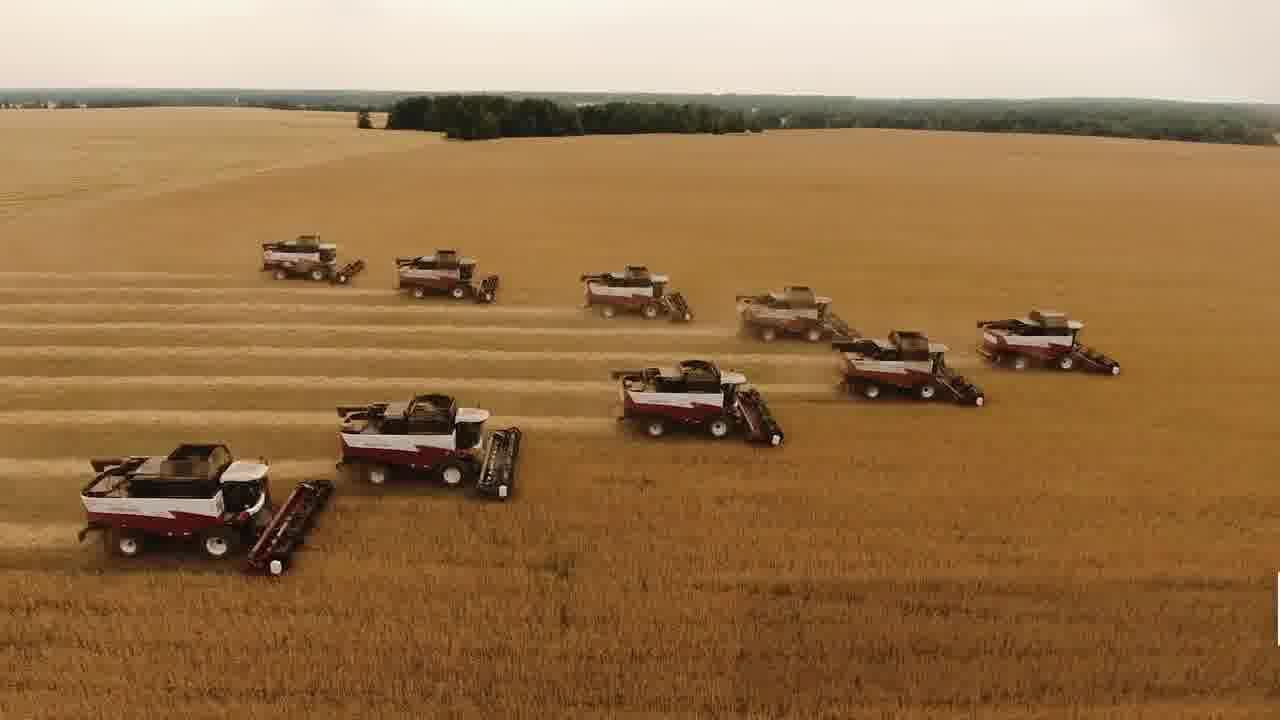combine harvester: (75, 433, 333, 580), (330, 385, 524, 507), (609, 354, 787, 450), (827, 328, 988, 412), (974, 302, 1124, 383), (733, 281, 860, 349), (578, 262, 694, 326), (258, 231, 367, 287), (393, 248, 503, 303)
